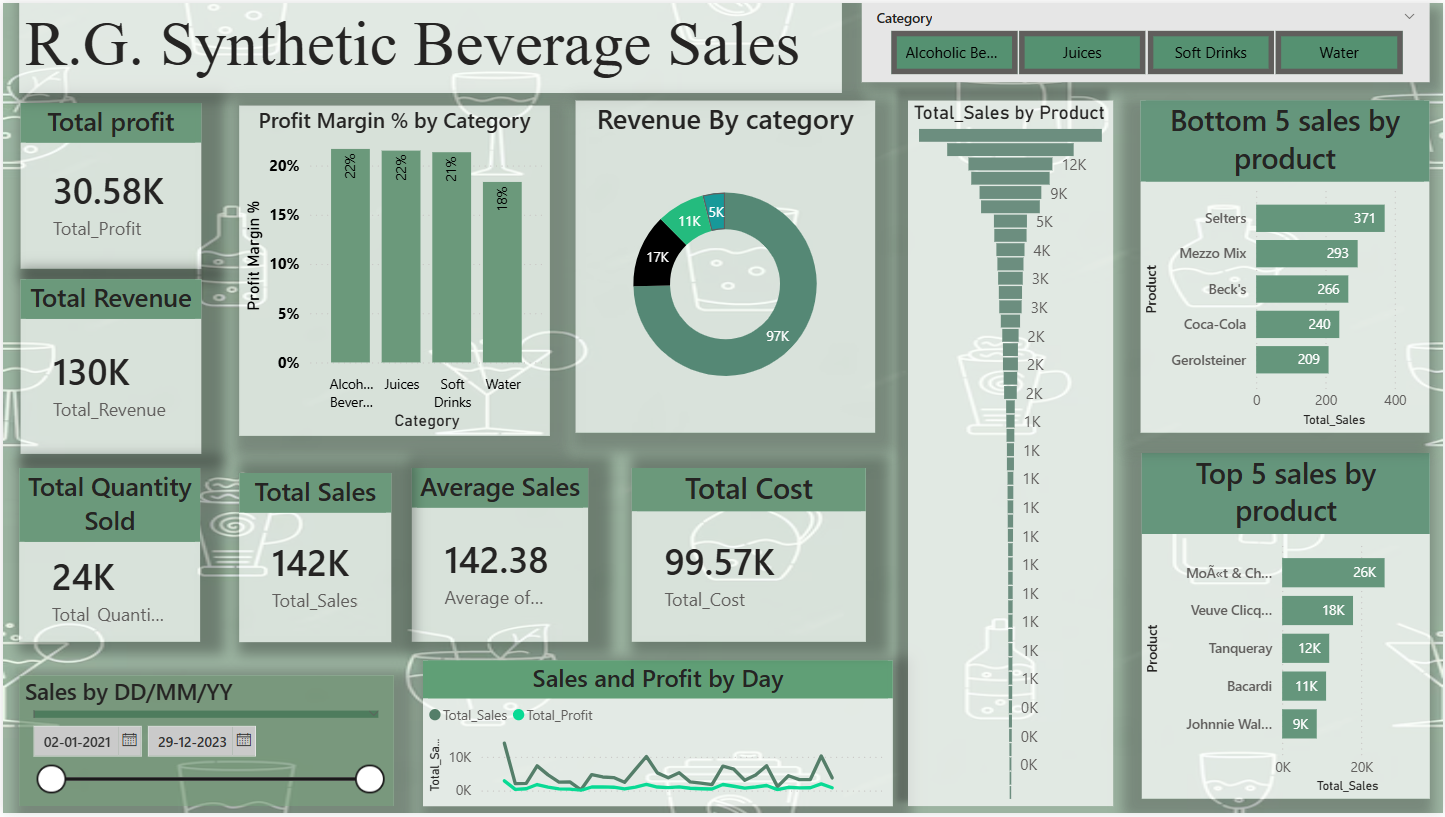

What the dashboard file says about the page in this screenshot:
{"tool":"powerbi","page":{"name":"Sales_Dashboard","canvas":[1280,720],"ordinal":1},"visuals":[{"type":"cardVisual","title":"Total profit","fields":{"Data":["My synthetic_beverage_sales.Total_Profit"]},"box":[15.1,89.2,160.5,146.8],"z":0},{"type":"textbox","box":[14.9,0,731.4,79.8],"z":1000},{"type":"clusteredColumnChart","fields":{"Y":["My synthetic_beverage_sales.Profit Margin %"],"Category":["My synthetic_beverage_sales.Category"]},"box":[209.5,90.6,275.8,293.4],"z":2000},{"type":"cardVisual","title":"Total Revenue","fields":{"Data":["My synthetic_beverage_sales.Total_Revenue"]},"box":[15.1,245.6,160.5,155.1],"z":3000},{"type":"cardVisual","title":"Total Quantity Sold","fields":{"Data":["My synthetic_beverage_sales.Total_Quantity Sold"]},"box":[14.9,413.7,160.9,154.1],"z":4000},{"type":"cardVisual","title":"Average Sales","fields":{"Data":["Avg(My synthetic_beverage_sales.sales)"]},"box":[363.7,413.7,156.8,154.1],"z":5000},{"type":"slicer","title":"Sales by DD/MM/YY","fields":{"Values":["My synthetic_beverage_sales.Order_Date"]},"box":[14.9,597.6,332.6,116.3],"z":6000},{"type":"cardVisual","title":"Total Sales","fields":{"Data":["My synthetic_beverage_sales.Total_Sales"]},"box":[209.5,417.7,135.2,150.1],"z":7000},{"type":"clusteredBarChart","title":"Top 5 sales  by  product","fields":{"Category":["My synthetic_beverage_sales.Product"],"Y":["My synthetic_beverage_sales.Total_Sales"]},"box":[1011.2,406.9,256.9,306.9],"z":8000},{"type":"clusteredBarChart","title":"Bottom 5 sales  by product","fields":{"Category":["My synthetic_beverage_sales.Product"],"Y":["My synthetic_beverage_sales.Total_Sales"]},"box":[1011.3,86.4,256.6,295],"z":9000},{"type":"slicer","fields":{"Values":["My synthetic_beverage_sales.Category"]},"box":[763.3,0,504.4,70],"z":10000},{"type":"donutChart","title":"Revenue By category","fields":{"Y":["My synthetic_beverage_sales.Total_Revenue"],"Category":["My synthetic_beverage_sales.Category"]},"box":[509.1,86.4,266.2,295],"z":11000},{"type":"lineChart","title":"Sales and Profit by Day","fields":{"Y":["My synthetic_beverage_sales.Total_Sales","My synthetic_beverage_sales.Total_Profit"],"Category":["My synthetic_beverage_sales.Order_Date.Variation.Date Hierarchy.Day"]},"box":[373.1,584,417.7,129.8],"z":12000},{"type":"funnel","fields":{"Category":["My synthetic_beverage_sales.Product"],"Y":["My synthetic_beverage_sales.Total_Sales"]},"box":[804.4,86.5,182.5,627.3],"z":13000},{"type":"cardVisual","title":"Total Cost","fields":{"Data":["My synthetic_beverage_sales.Total_Cost"]},"box":[558.3,413.7,208.2,154.1],"z":14000}]}

Visuals, with their boxes in screenshot pixels (x1, y1, x2, y2), scaled from the page's 1280x720 canvas onto the 1445x817 screenshot:
"Total profit" cardVisual: 17/101/198/268
textbox: 17/0/843/91
clusteredColumnChart - My synthetic_beverage_sales.Profit Margin % x My synthetic_beverage_sales.Category: 237/103/548/436
"Total Revenue" cardVisual: 17/279/198/455
"Total Quantity Sold" cardVisual: 17/469/198/644
"Average Sales" cardVisual: 411/469/588/644
"Sales by DD/MM/YY" slicer: 17/678/392/810
"Total Sales" cardVisual: 237/474/389/644
"Top 5 sales  by  product" clusteredBarChart: 1142/462/1432/810
"Bottom 5 sales  by product" clusteredBarChart: 1142/98/1431/433
slicer - My synthetic_beverage_sales.Category: 862/0/1431/79
"Revenue By category" donutChart: 575/98/875/433
"Sales and Profit by Day" lineChart: 421/663/893/810
funnel - My synthetic_beverage_sales.Product x My synthetic_beverage_sales.Total_Sales: 908/98/1114/810
"Total Cost" cardVisual: 630/469/865/644
